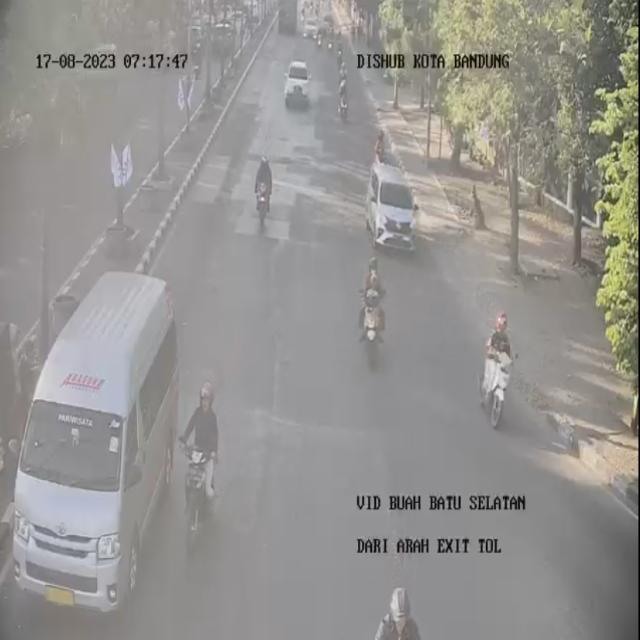bus: (15, 275, 181, 605)
cars: (363, 151, 419, 254), (281, 57, 314, 123)
motorcycle: (167, 374, 232, 544), (476, 302, 514, 438), (380, 570, 427, 640), (247, 141, 280, 229), (371, 127, 391, 169), (338, 81, 352, 125), (340, 58, 354, 82), (336, 40, 344, 58)
